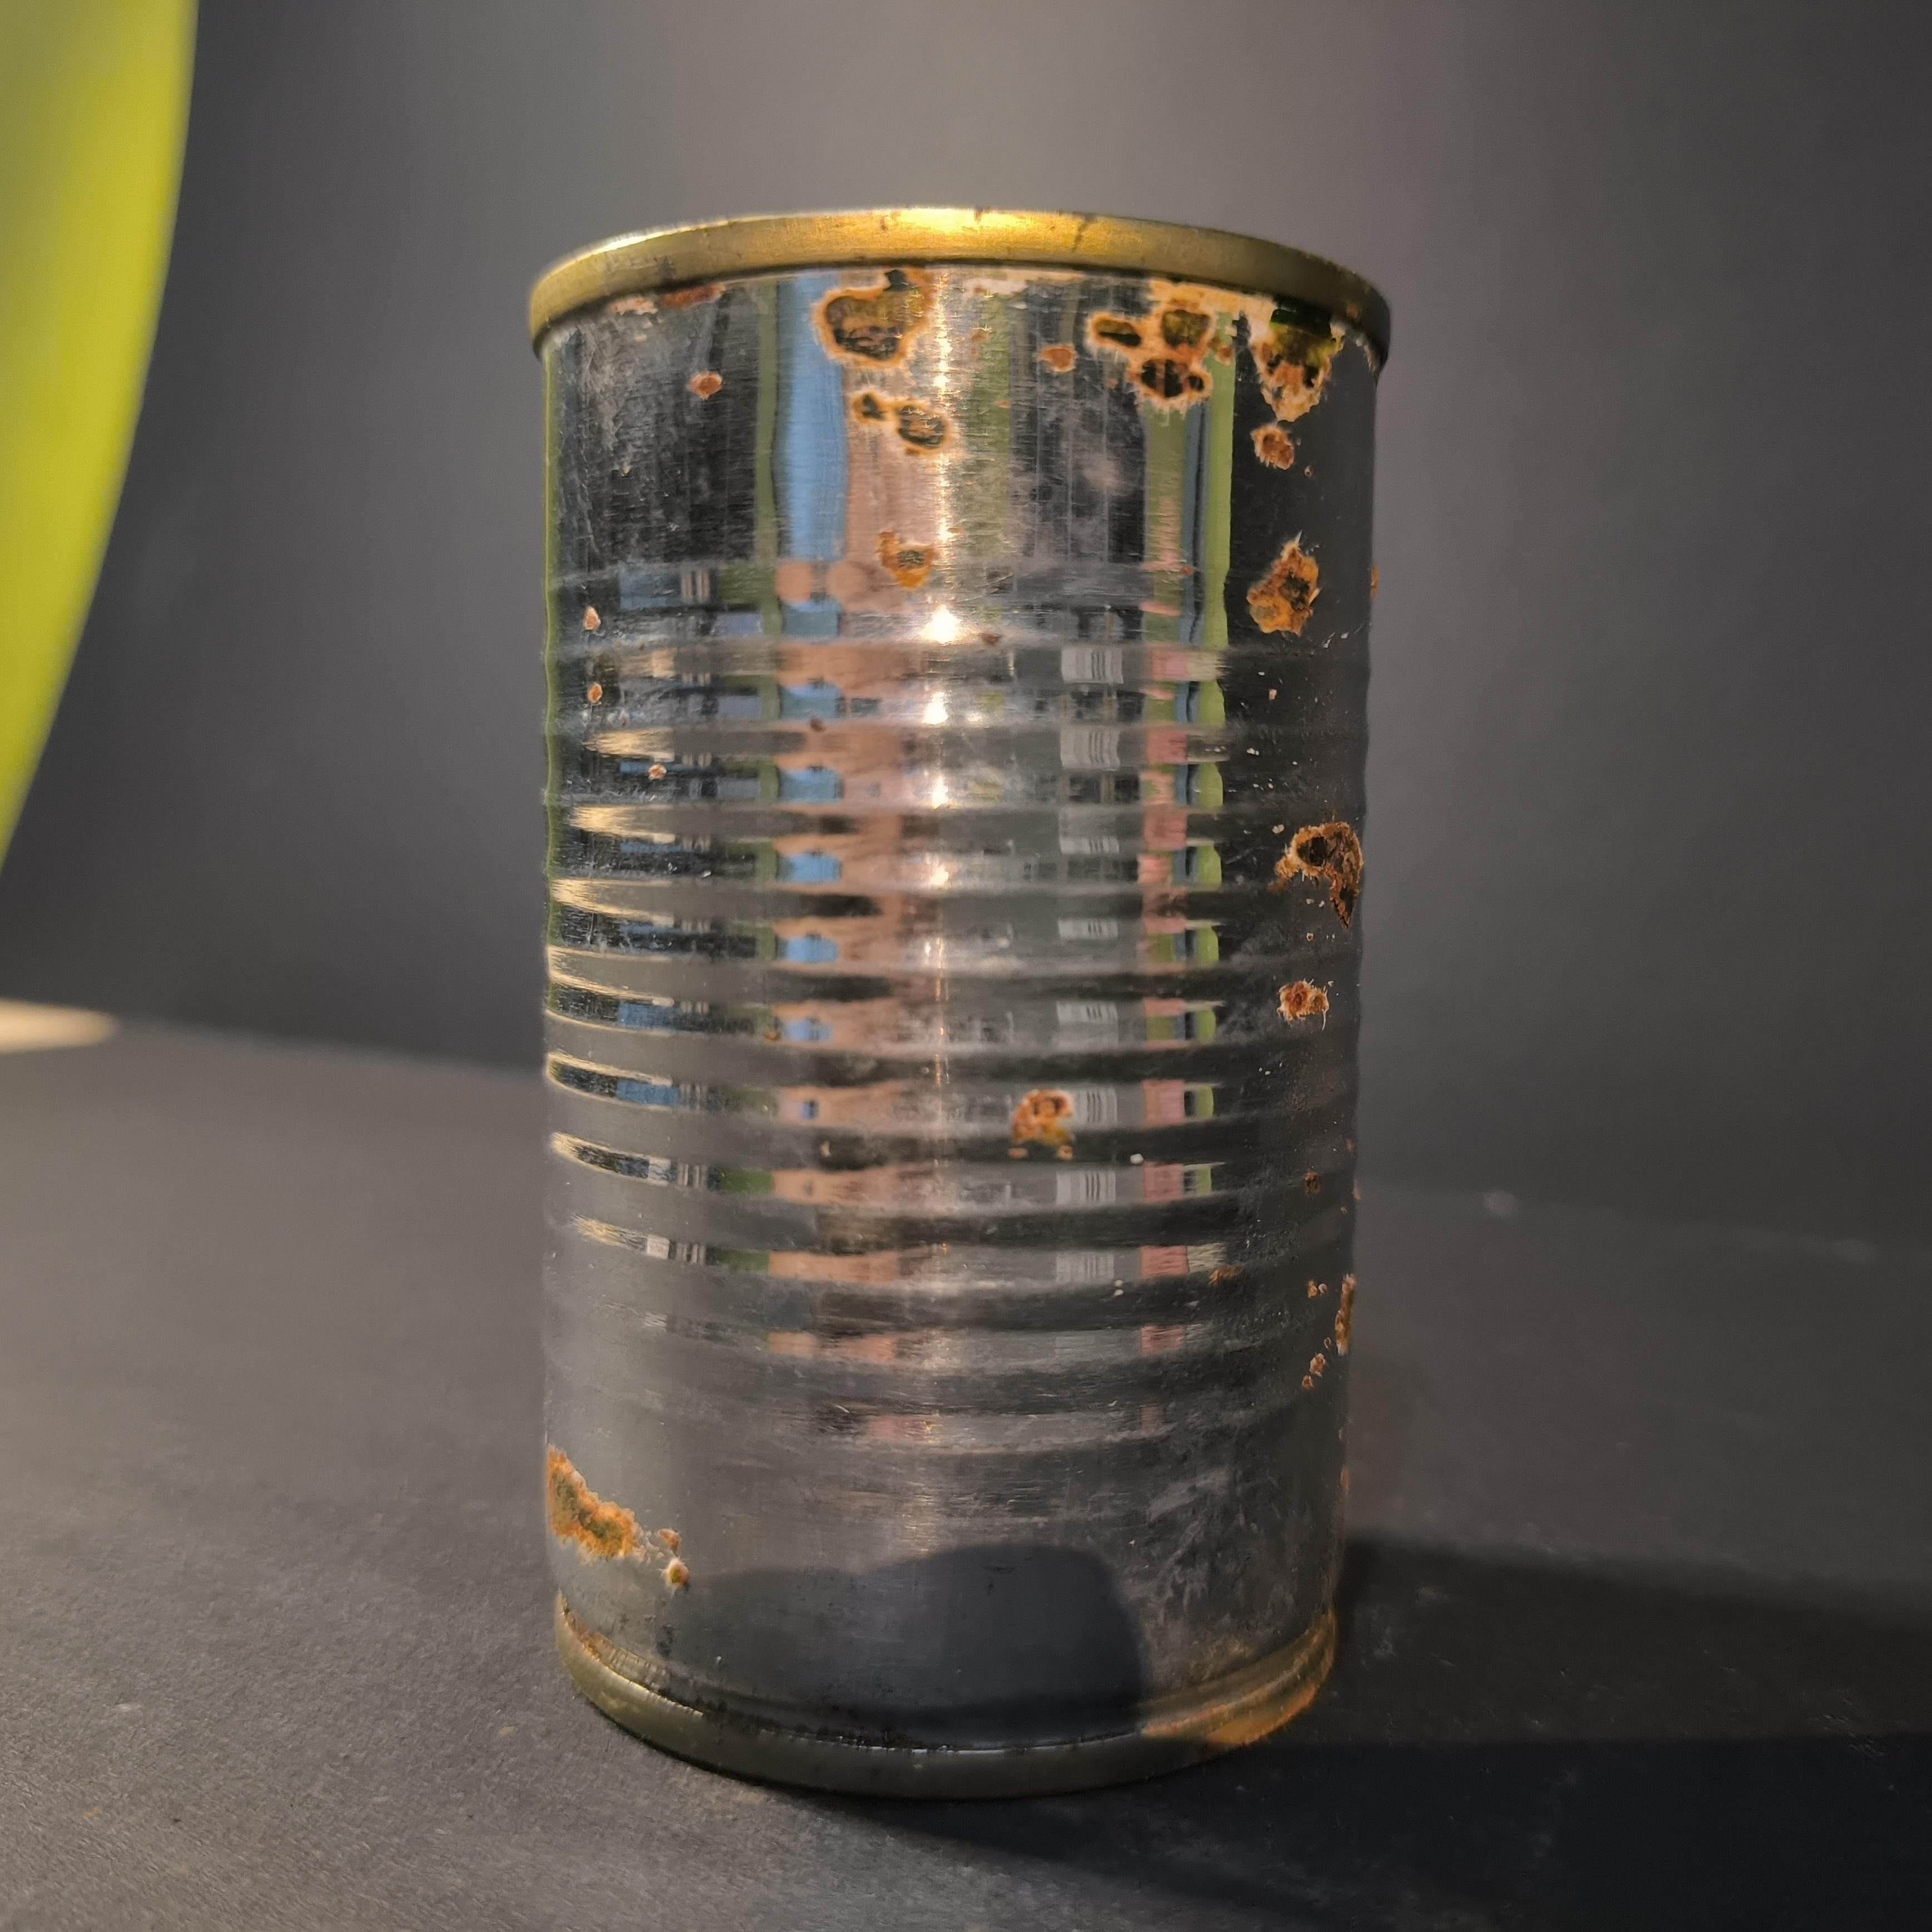Rusted: (506, 193, 1399, 1828)
